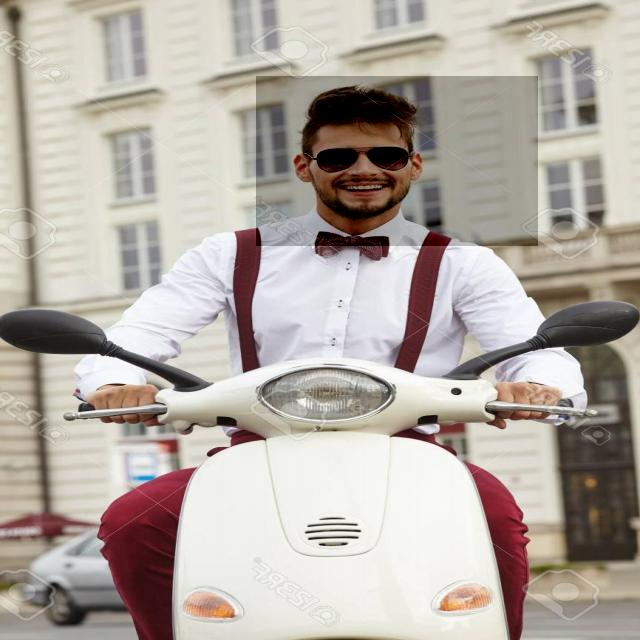No_Helmet: (256, 76, 538, 246)
